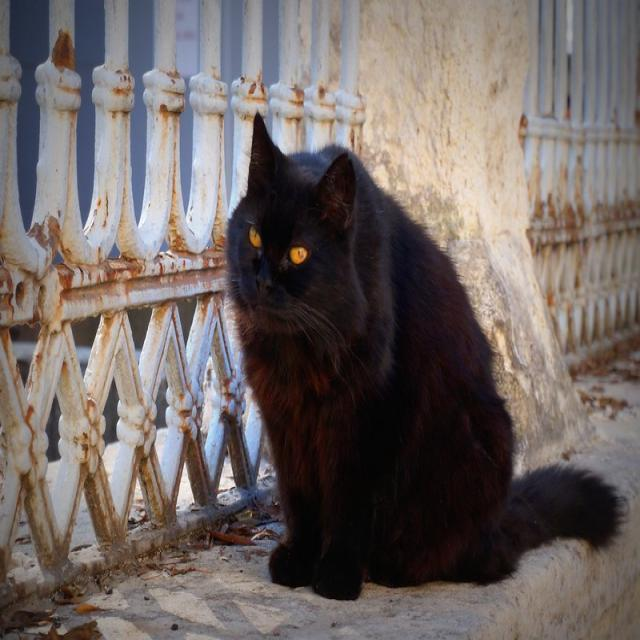cat: (226, 117, 622, 599)
